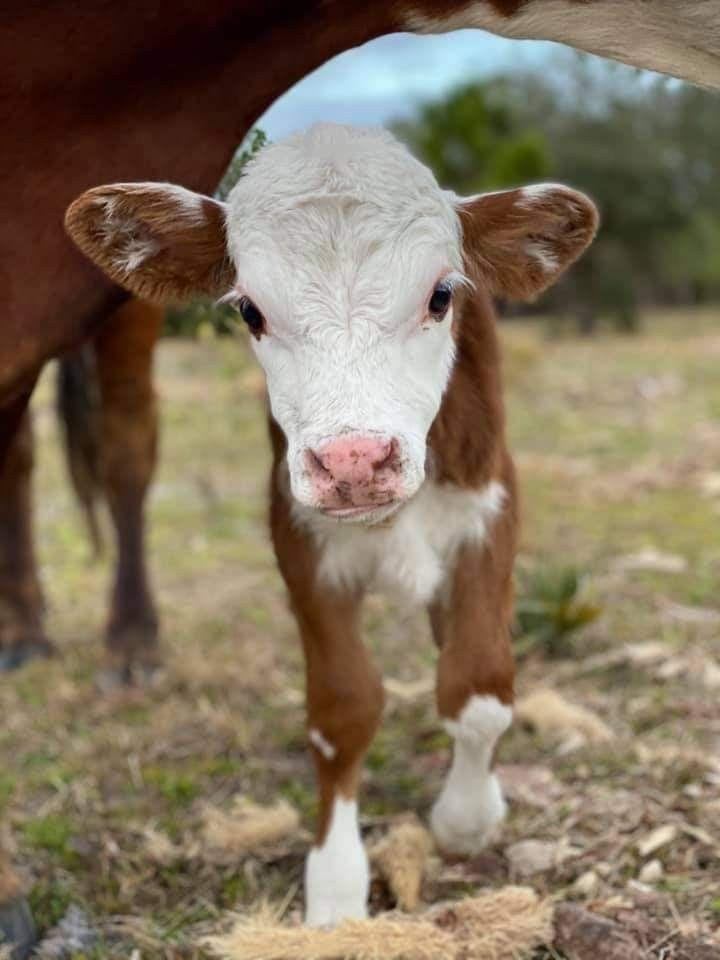cow: (100, 98, 675, 765)
